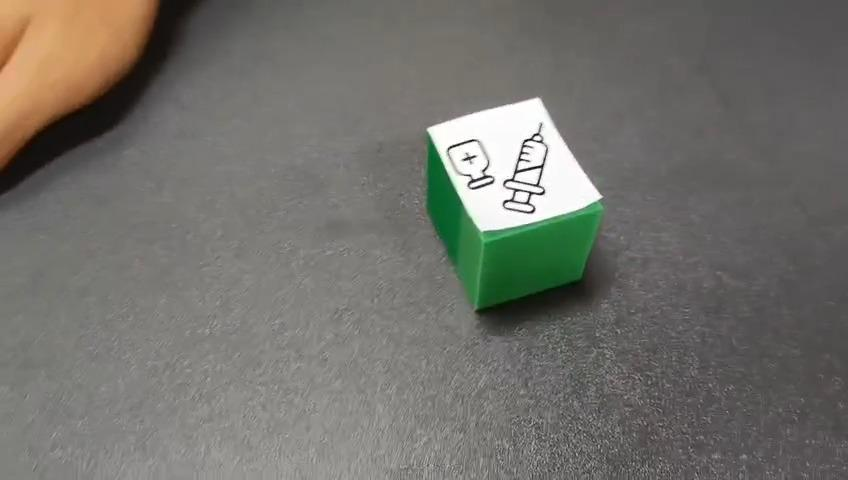antiseptic cream: (423, 94, 604, 312)
